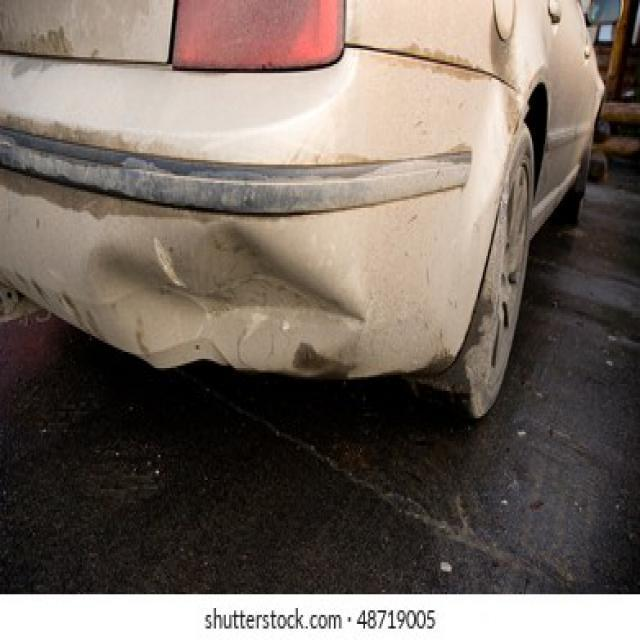rear-bumper-dent: (0, 166, 498, 410)
